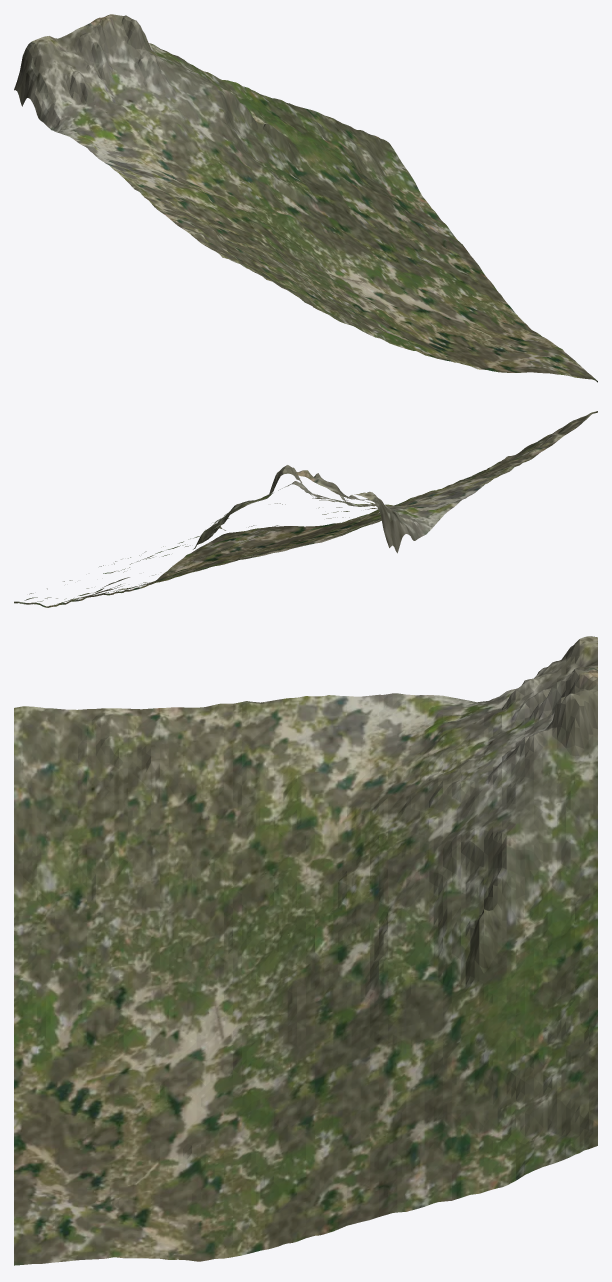
3 views of the same model, one above another, from view 1: azimuth 30°, elevation 25°; view 2: azimuth 150°, elevation 25°; view 3: azimuth 270°, elevation 25° (orthographic). The views are drawn at different scales.
Size of the model in its own units: 250 by 181 by 241.
1 material, 1 textured.
